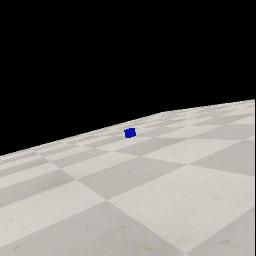box: (124, 128, 136, 138)
